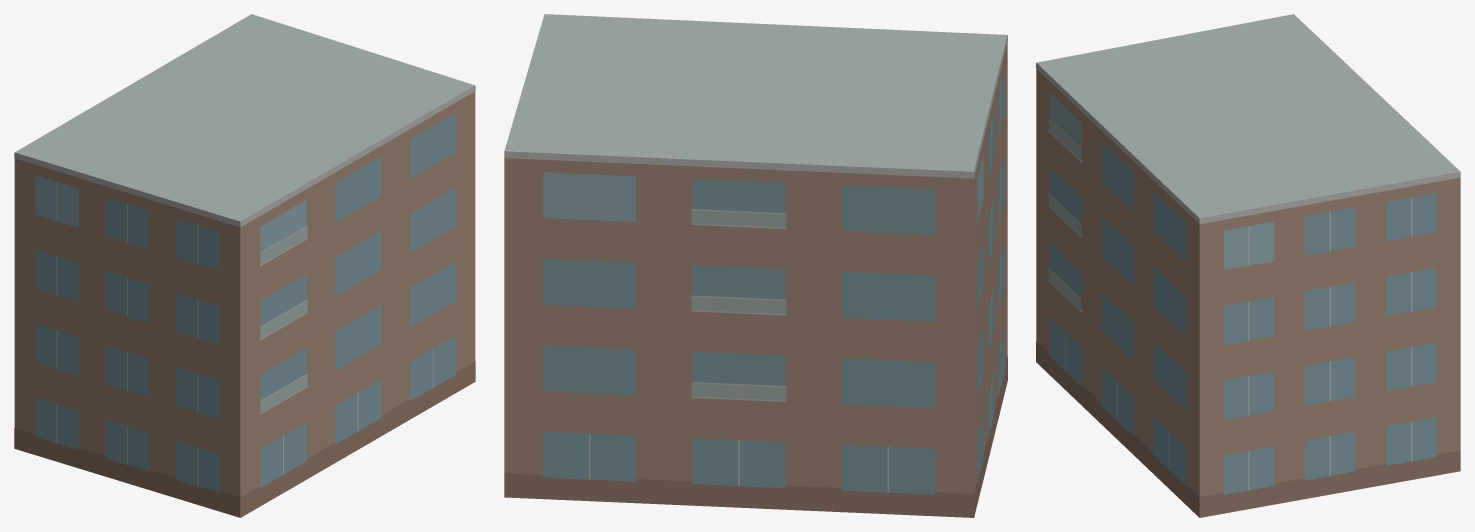
The model's file is survey-upis-32731852.glb.
3 views of the same model, side by side, from view 1: azimuth 30°, elevation 25°; view 2: azimuth 150°, elevation 25°; view 3: azimuth 270°, elevation 25° (orthographic). The views are drawn at different scales.
Parts seen in each view (by area): view 1: survey-upis-32731852.tmp; view 2: survey-upis-32731852.tmp; view 3: survey-upis-32731852.tmp.
Boxes of the visible parts, box(x1,y1,x2,y2) form: survey-upis-32731852.tmp: box(14, 14, 475, 517); survey-upis-32731852.tmp: box(504, 14, 1007, 517); survey-upis-32731852.tmp: box(1036, 14, 1460, 517).
Bounding box in the file's own units: 18.3 × 12.5 × 16.06.
